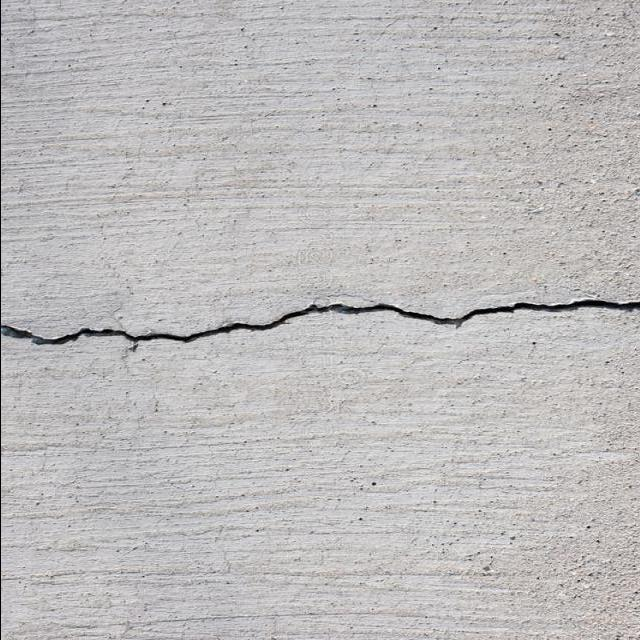Crack: (1, 296, 639, 351)
